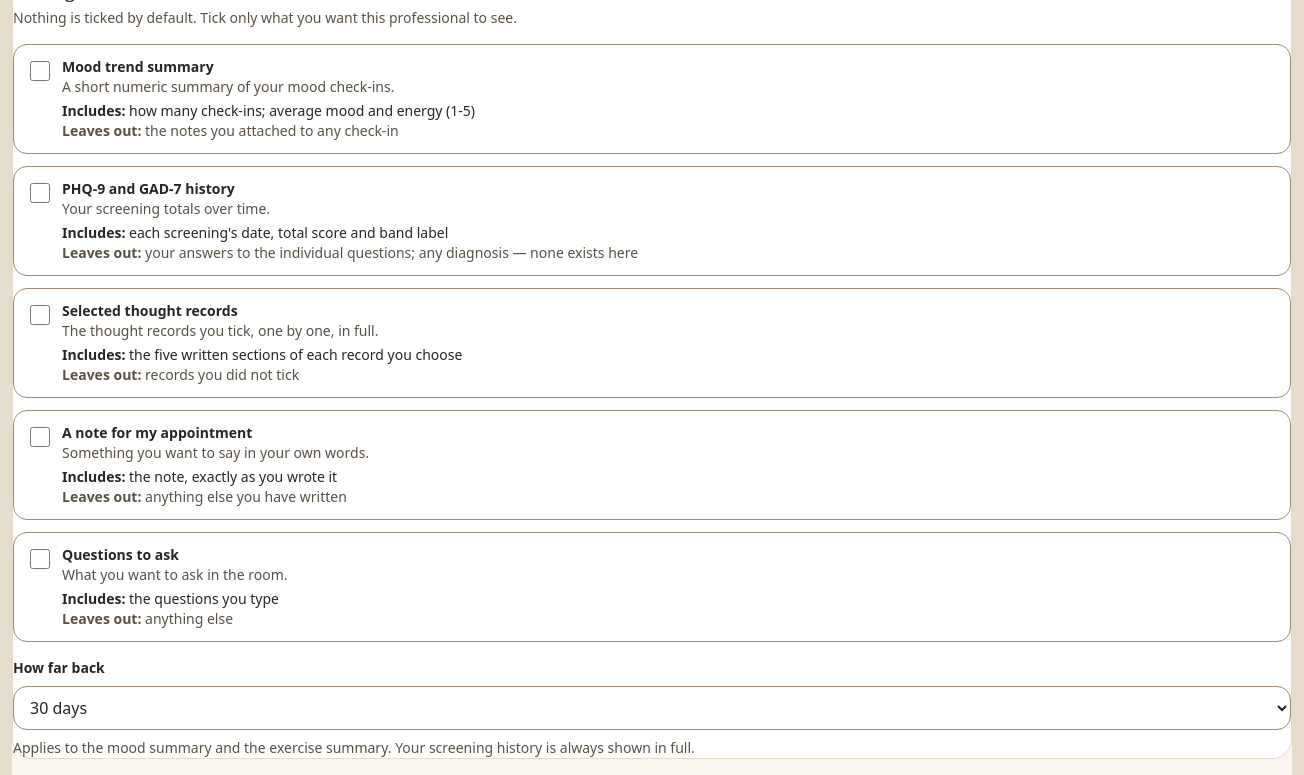
Scenario: ShareBuilder › shows a preview failure instead of silently offering an empty document
Click the checkbox with test id "share-item-note": (40, 437) [30, 427, 50, 447]
(page scrolled)
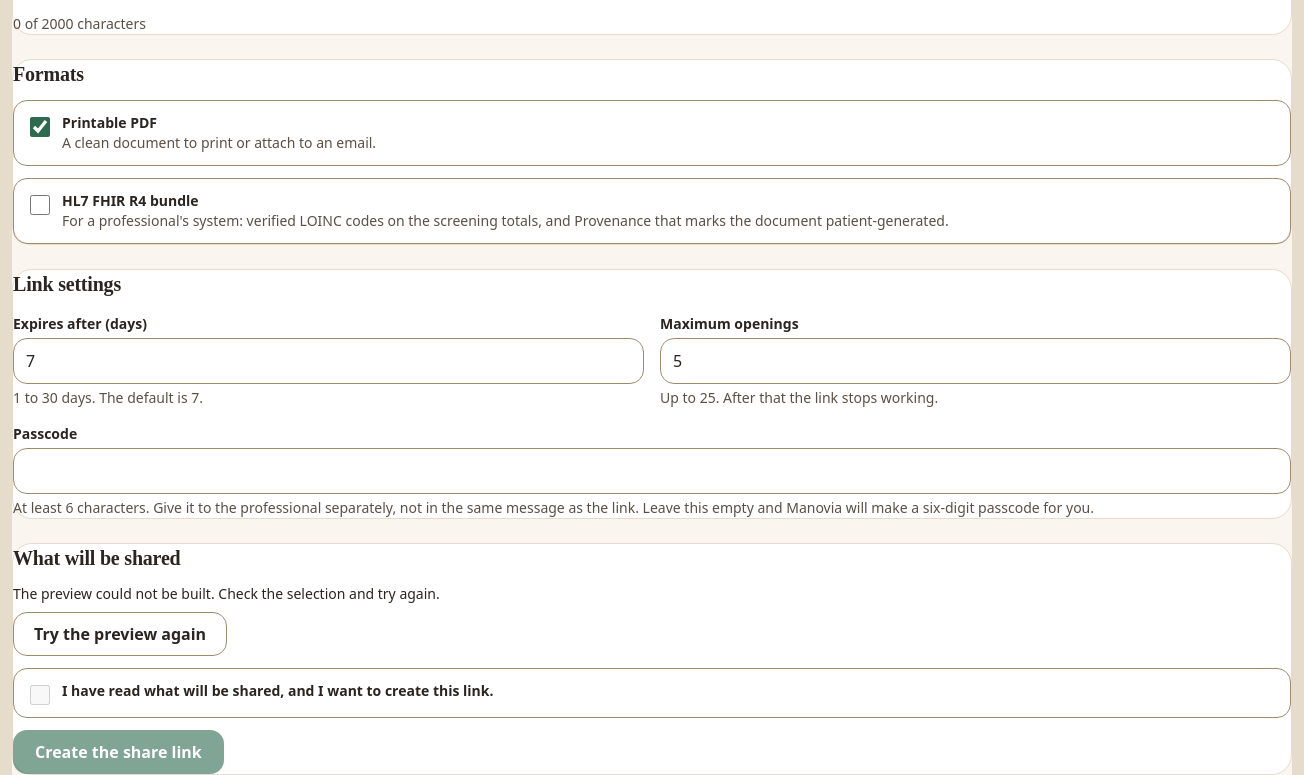
Expected: the checkbox with test id "share-confirm" is disabled, [30, 685, 50, 705]
Now the message "The preview could not be built. Check the selection and try again." is shown, box [13, 584, 440, 603]
